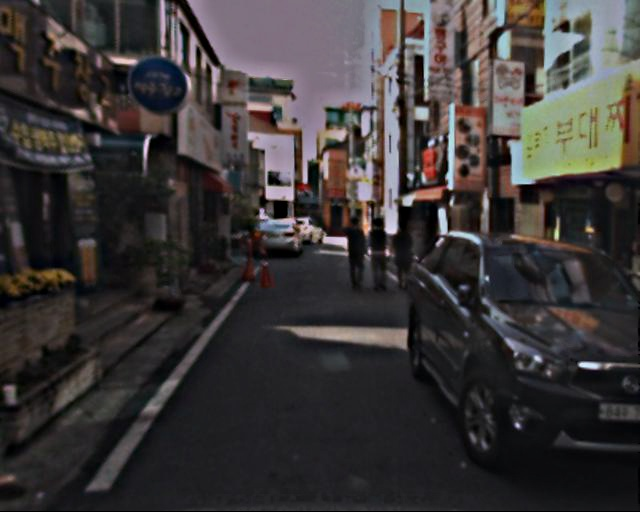person: (340, 217, 371, 292), (363, 218, 393, 292), (388, 219, 417, 290)
